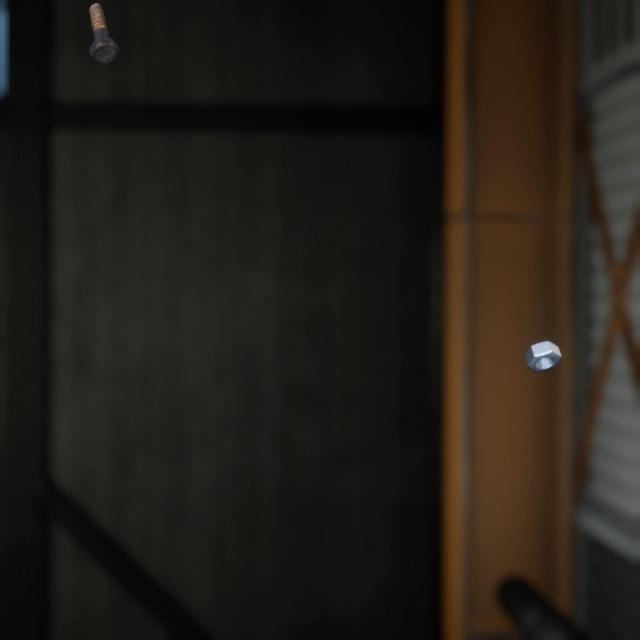bolt: (84, 0, 124, 60)
nut: (519, 317, 566, 358)
